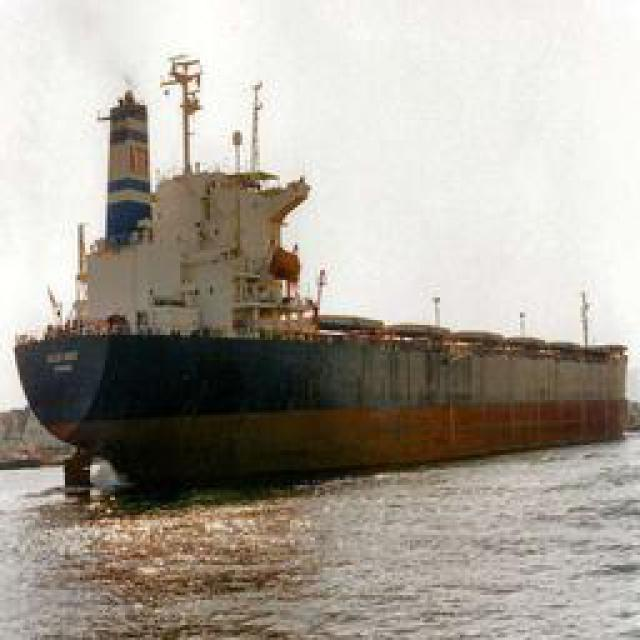Ship: (12, 315, 630, 483)
